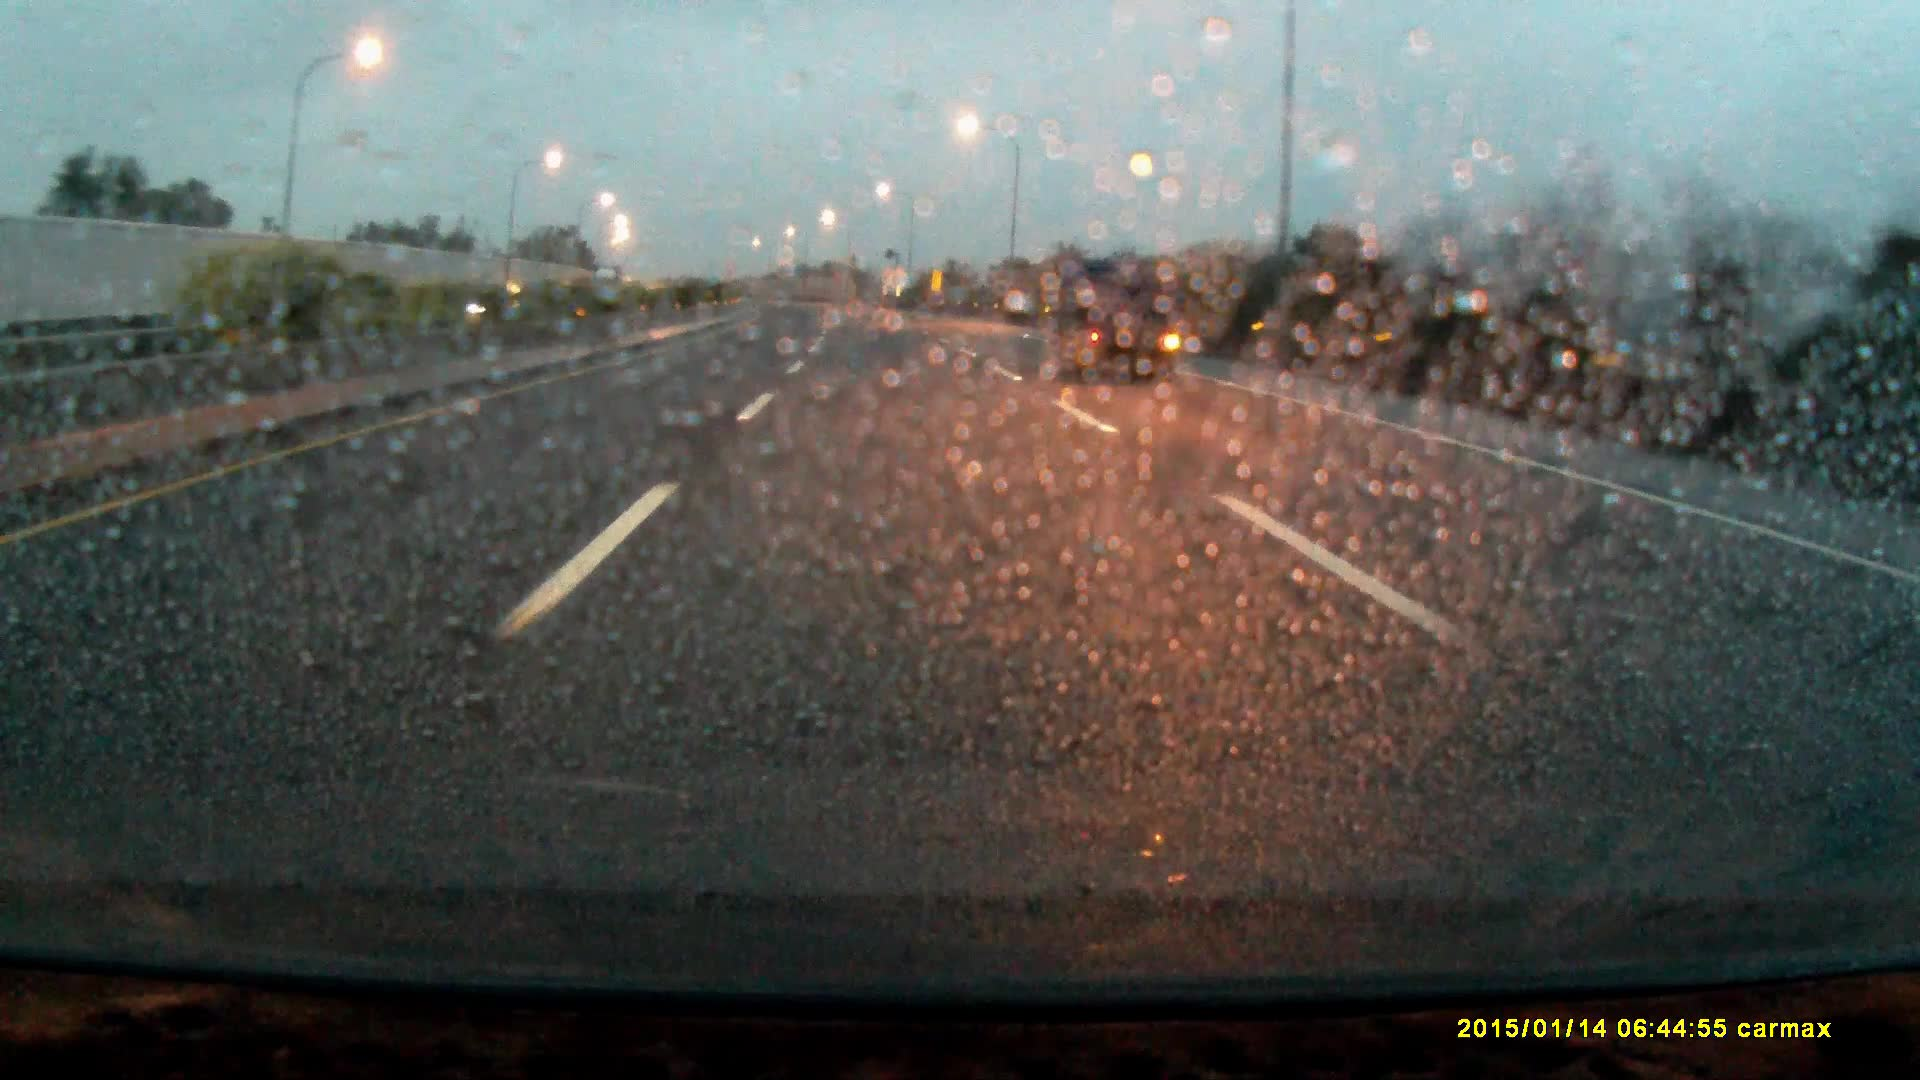vehicle: (1050, 260, 1182, 389), (591, 266, 622, 302)
